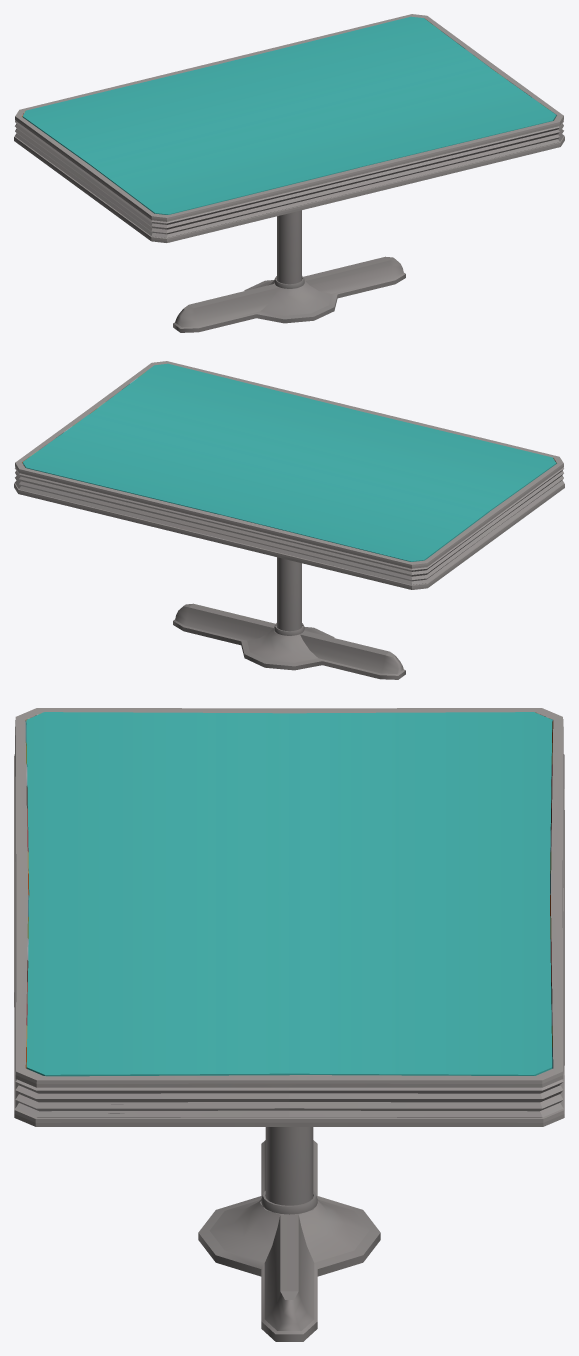
File: Table.fbx
The picture shows the model from 3 angles, top to bottom: view 1: azimuth 30°, elevation 25°; view 2: azimuth 150°, elevation 25°; view 3: azimuth 270°, elevation 25°; orthographic projection. The views are drawn at different scales.
Parts seen in each view (by area): view 1: Table; view 2: Table; view 3: Table.
Boxes of the visible parts, bbox=[...] form: Table: bbox=[14, 14, 564, 332]; Table: bbox=[14, 361, 564, 679]; Table: bbox=[14, 708, 564, 1341].
Size of the model in its own units: 1.81 by 0.7803 by 1.12.
